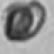correct: (5, 0, 47, 44)
